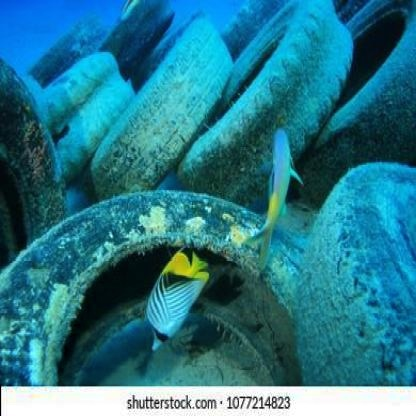tire: (34, 176, 300, 332), (90, 24, 220, 192), (217, 17, 353, 176), (325, 2, 415, 186), (329, 165, 416, 347), (1, 70, 76, 248)
